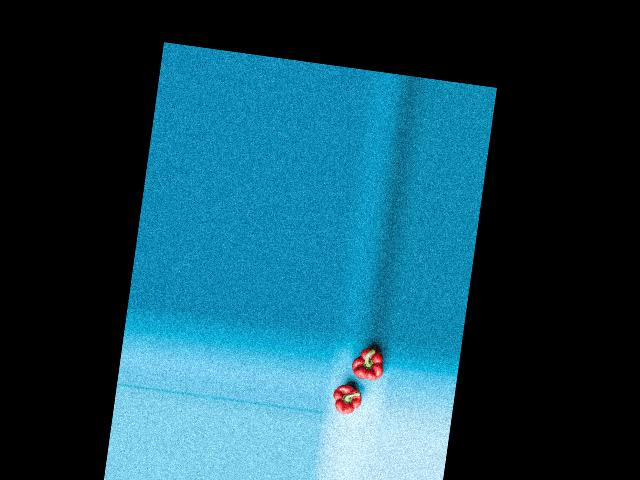bell_pepper: (345, 341, 386, 388)
